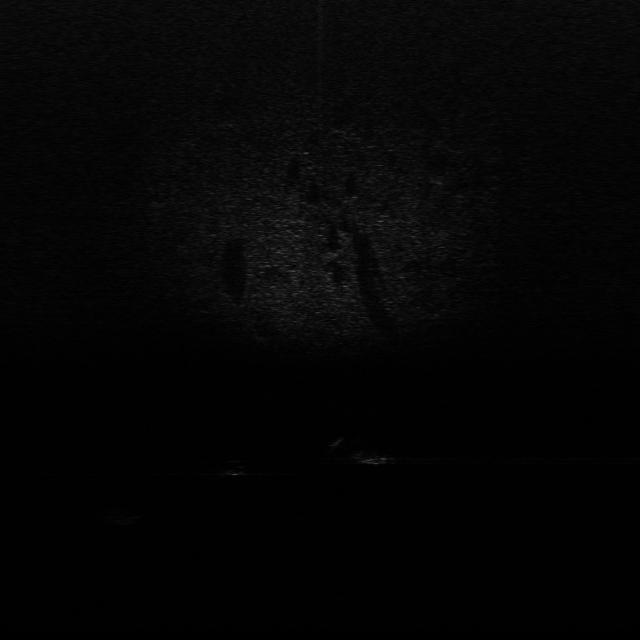ball: (216, 457, 250, 480)
circle cage: (94, 503, 148, 528)
human body: (324, 436, 404, 469)
